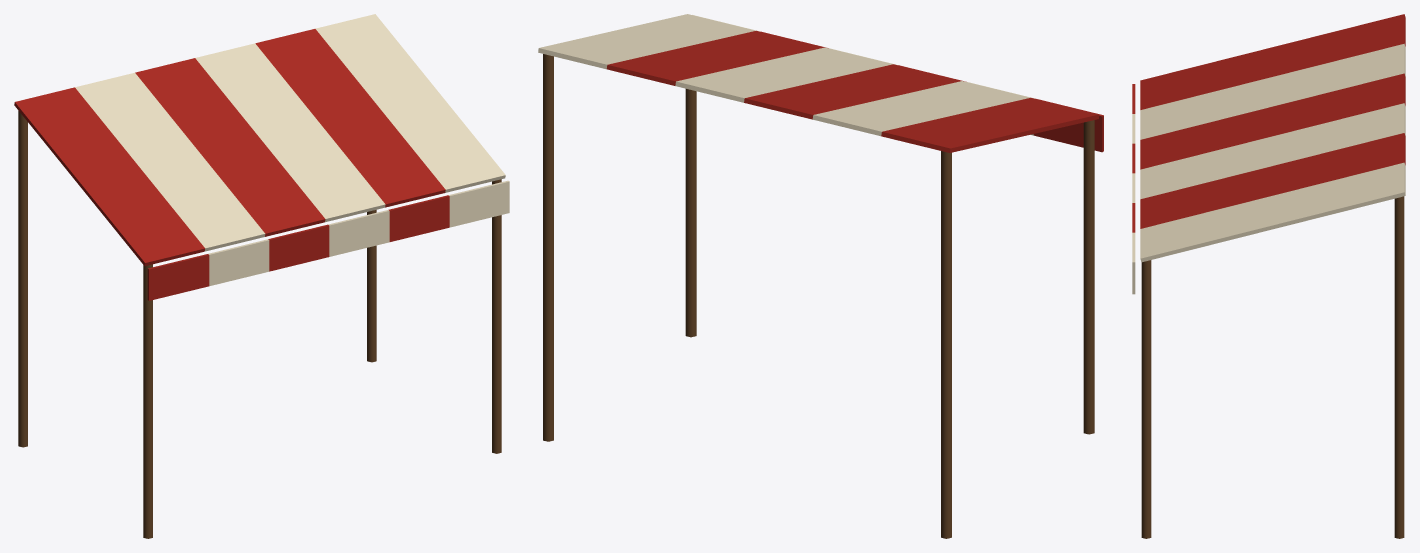
Rendered from mv_awning.glb.
3 views of the same model, side by side, from view 1: azimuth 30°, elevation 25°; view 2: azimuth 150°, elevation 25°; view 3: azimuth 270°, elevation 25° (orthographic). The views are drawn at different scales.
Parts seen in each view (by area): view 1: mv_awning; view 2: mv_awning; view 3: mv_awning.
Part boxes in pixels (x1,y1,x2,y2): mv_awning: (14,14,509,538); mv_awning: (538,14,1103,538); mv_awning: (1132,14,1405,538).
Bounding box in the file's own units: 3.01 × 2.73 × 1.95.
